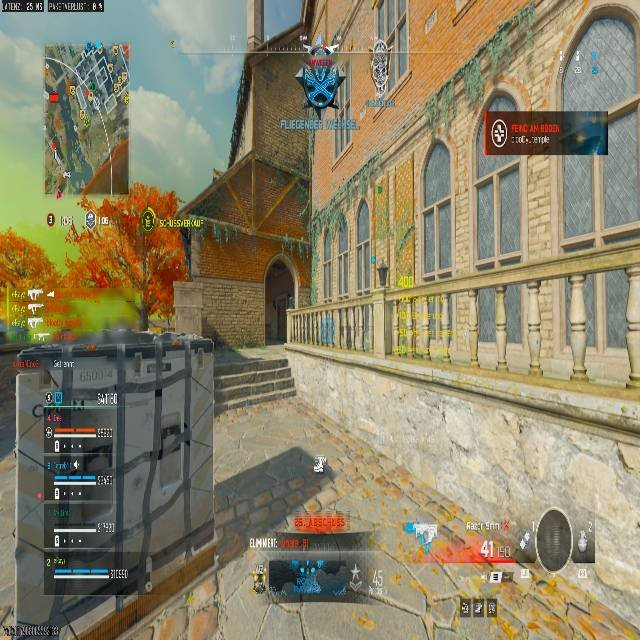player: (139, 230, 186, 331), (297, 39, 342, 111)
